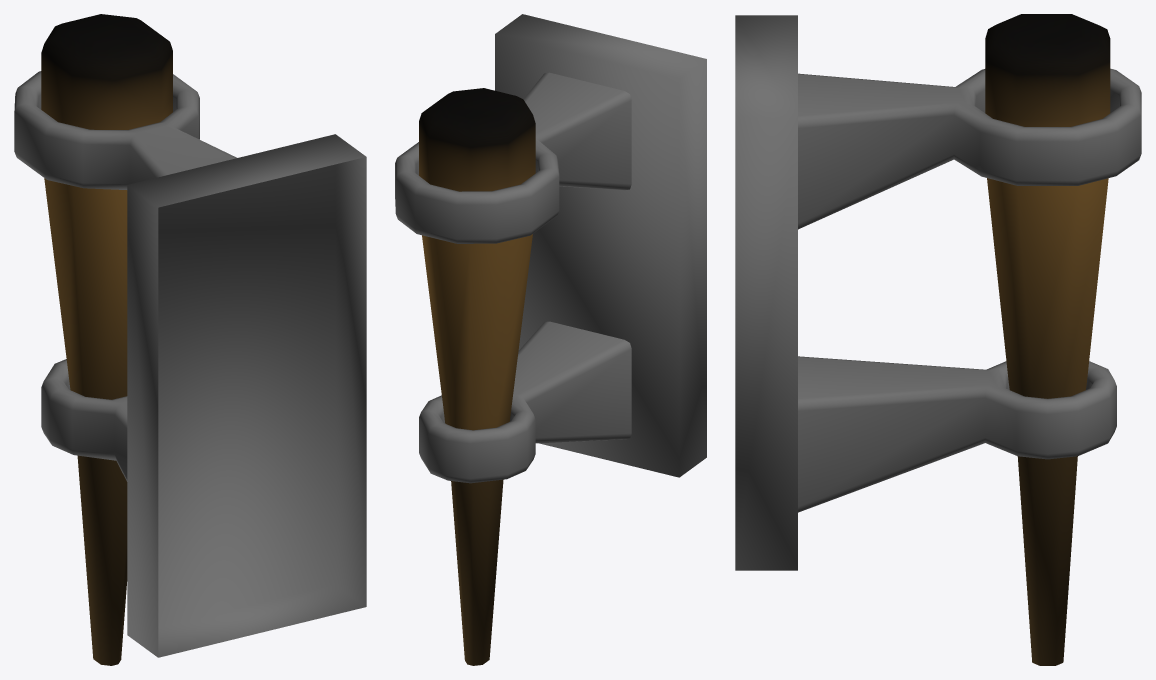
File: SM_Torch.fbx
The picture shows the model from 3 angles, left to right: view 1: azimuth 30°, elevation 25°; view 2: azimuth 150°, elevation 25°; view 3: azimuth 270°, elevation 25°; orthographic projection. The views are drawn at different scales.
Parts seen in each view (by area): view 1: SM_Torch; view 2: SM_Torch; view 3: SM_Torch.
Boxes of the visible parts, x1=… form: SM_Torch: x1=14, y1=14, x2=366, y2=665; SM_Torch: x1=395, y1=14, x2=706, y2=665; SM_Torch: x1=735, y1=14, x2=1141, y2=665.
Bounding box in the file's own units: 24.22 × 69.76 × 40.62.
